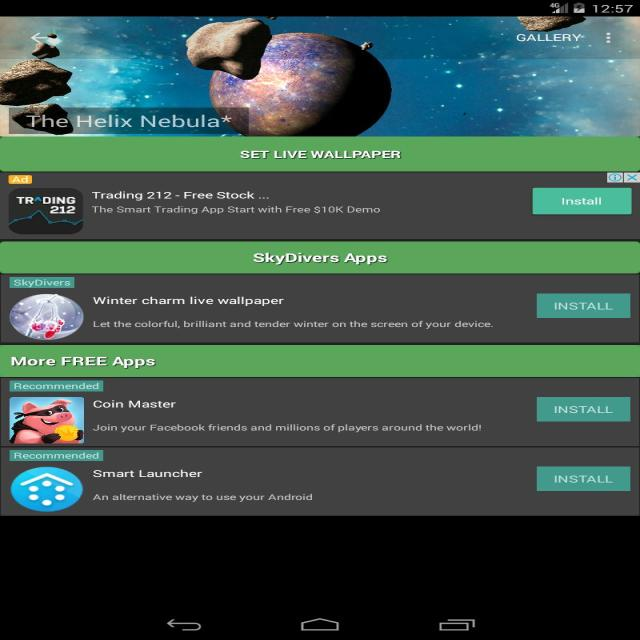button: (509, 22, 618, 52), (536, 292, 631, 318), (536, 466, 629, 492), (538, 396, 630, 422)
heading: (86, 294, 286, 308), (238, 147, 404, 162), (253, 250, 392, 266), (9, 354, 156, 369), (92, 467, 207, 480), (90, 398, 180, 412)
iframe: (1, 172, 638, 239)
image: (0, 17, 640, 135), (11, 292, 85, 342), (9, 396, 83, 444), (10, 467, 84, 511)
text: (93, 421, 483, 435), (91, 318, 498, 331), (27, 110, 234, 130), (90, 491, 312, 505), (511, 28, 586, 46)
